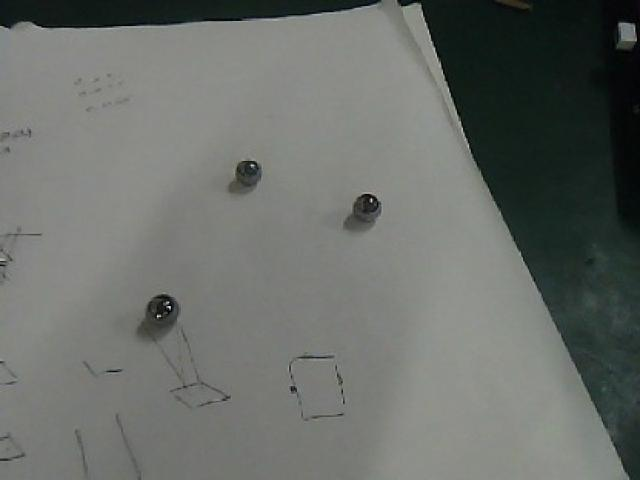steel-ball: (217, 136, 280, 204), (125, 272, 186, 338), (342, 180, 402, 237)
